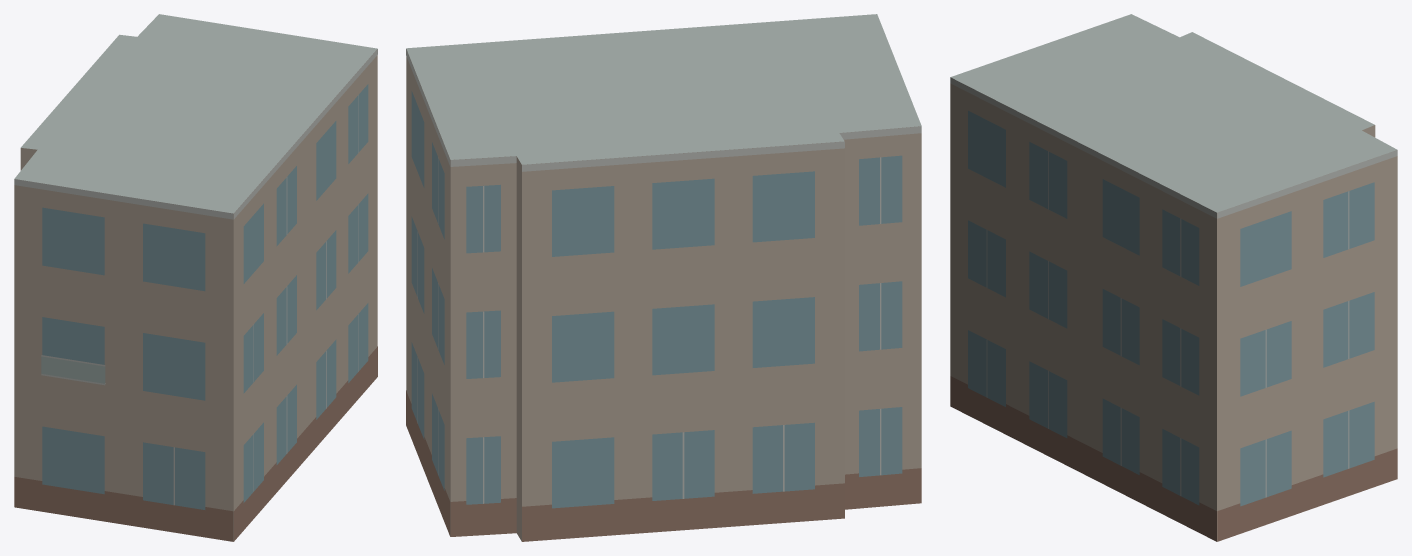
File: survey-upis-32940997.glb
The picture shows the model from 3 angles, left to right: view 1: azimuth 30°, elevation 25°; view 2: azimuth 150°, elevation 25°; view 3: azimuth 270°, elevation 25°; orthographic projection. The views are drawn at different scales.
Parts seen in each view (by area): view 1: survey-upis-32940997.tmp; view 2: survey-upis-32940997.tmp; view 3: survey-upis-32940997.tmp.
Boxes of the visible parts, box(x1,y1,x2,y2) form: survey-upis-32940997.tmp: box(14, 14, 377, 541); survey-upis-32940997.tmp: box(406, 14, 921, 541); survey-upis-32940997.tmp: box(950, 14, 1397, 541).
Bounding box in the file's own units: 16.97 × 13.1 × 16.14.
